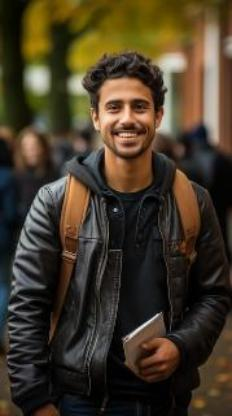person: (3, 44, 232, 415)
